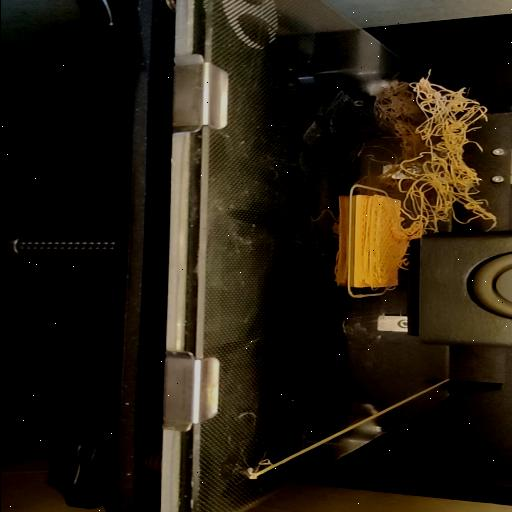spaghetti: (394, 68, 500, 235)
